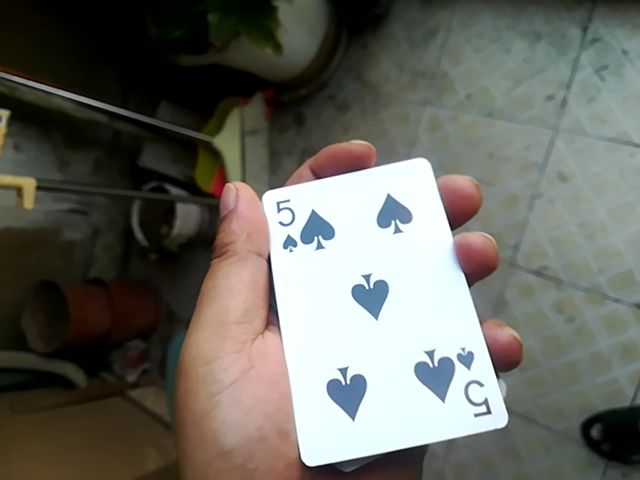ht 5: (256, 150, 496, 477)
